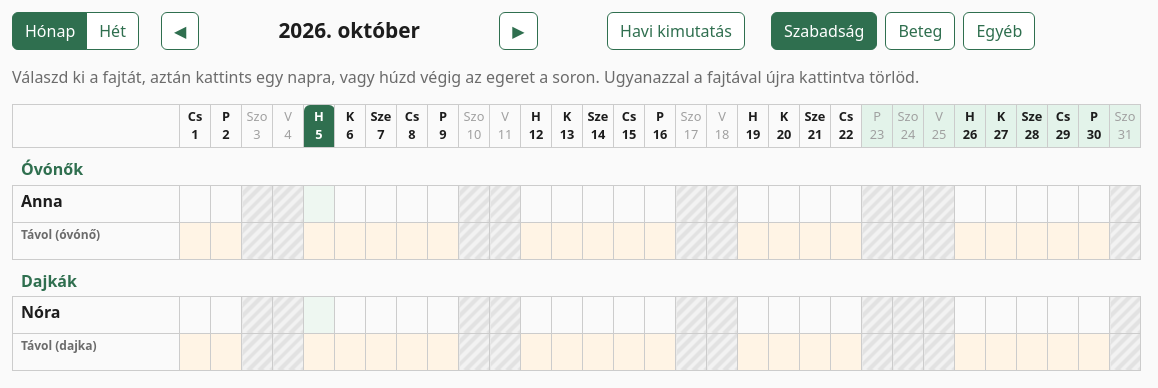
Test case: AbsenceScreen week view › jumps to the current week, offered only away from it
Click the button "Hét": (113, 31) [86, 12, 139, 50]
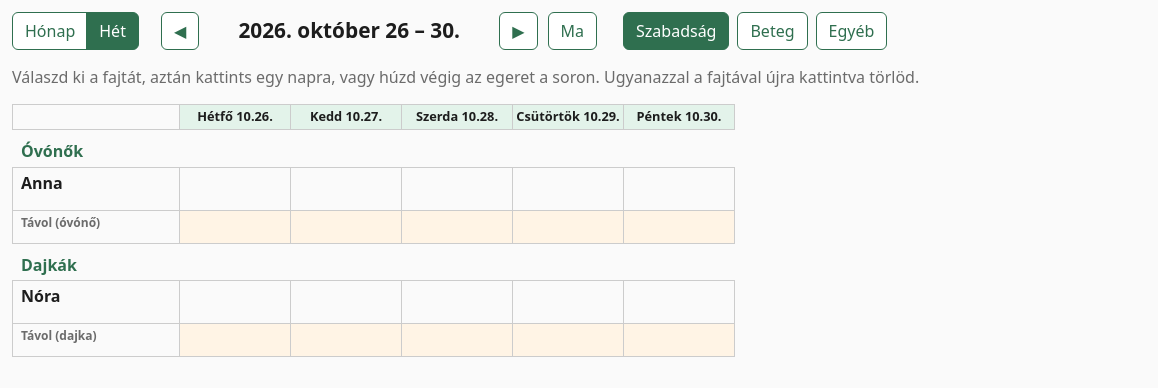
Click the button "Ma": (572, 31) [548, 12, 597, 50]
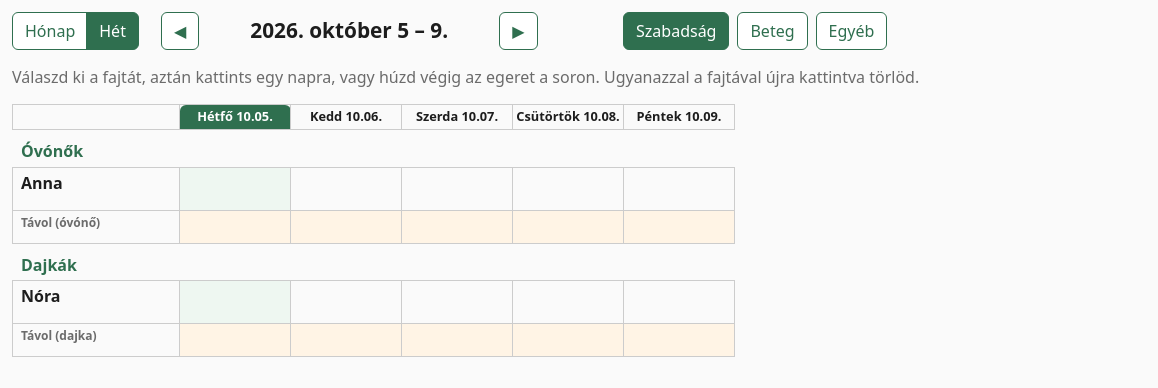
Expected: the heading "2026. október 5 – 9." is shown, [250, 16, 448, 44]
Expected: the button "Ma" is gone
